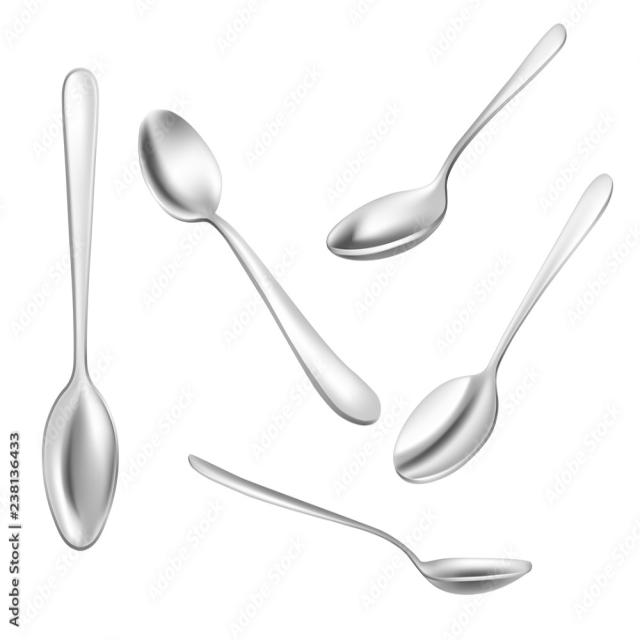spoon: (36, 59, 132, 555)
